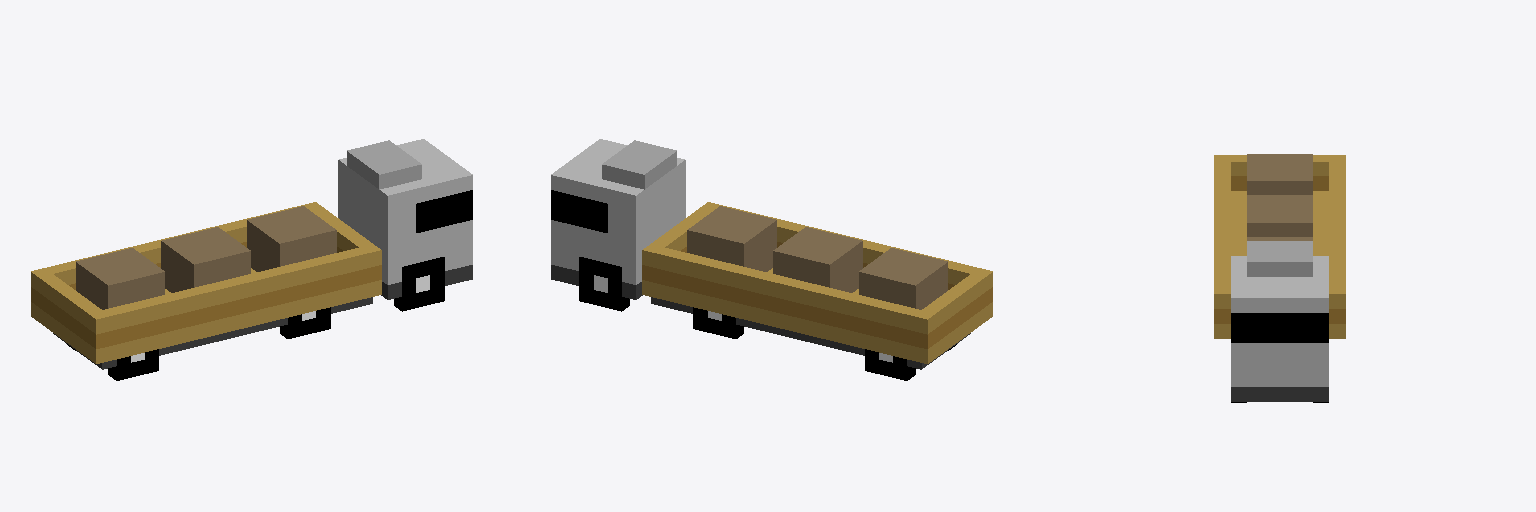
3 views of the same model, side by side, from view 1: azimuth 30°, elevation 25°; view 2: azimuth 150°, elevation 25°; view 3: azimuth 270°, elevation 25° (orthographic).
Parts seen in each view (by area): view 1: object 1; view 2: object 1; view 3: object 1.
Part boxes in pixels (x1,y1,x2,y2): object 1: (31, 139, 472, 380); object 1: (551, 139, 992, 380); object 1: (1214, 154, 1345, 402).
Bounding box in the file's own units: 2.7 × 0.9 × 0.8.
Materials: 1 (1 with a texture image).